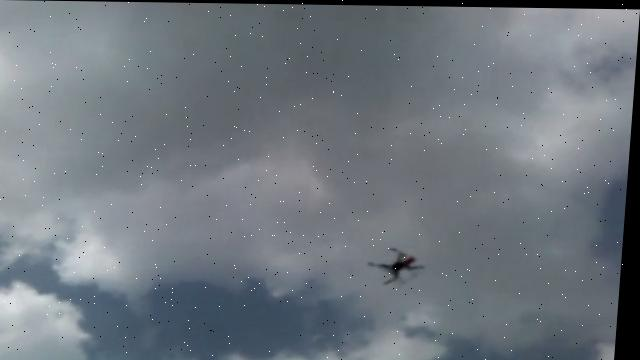drone: (366, 245, 431, 285)
